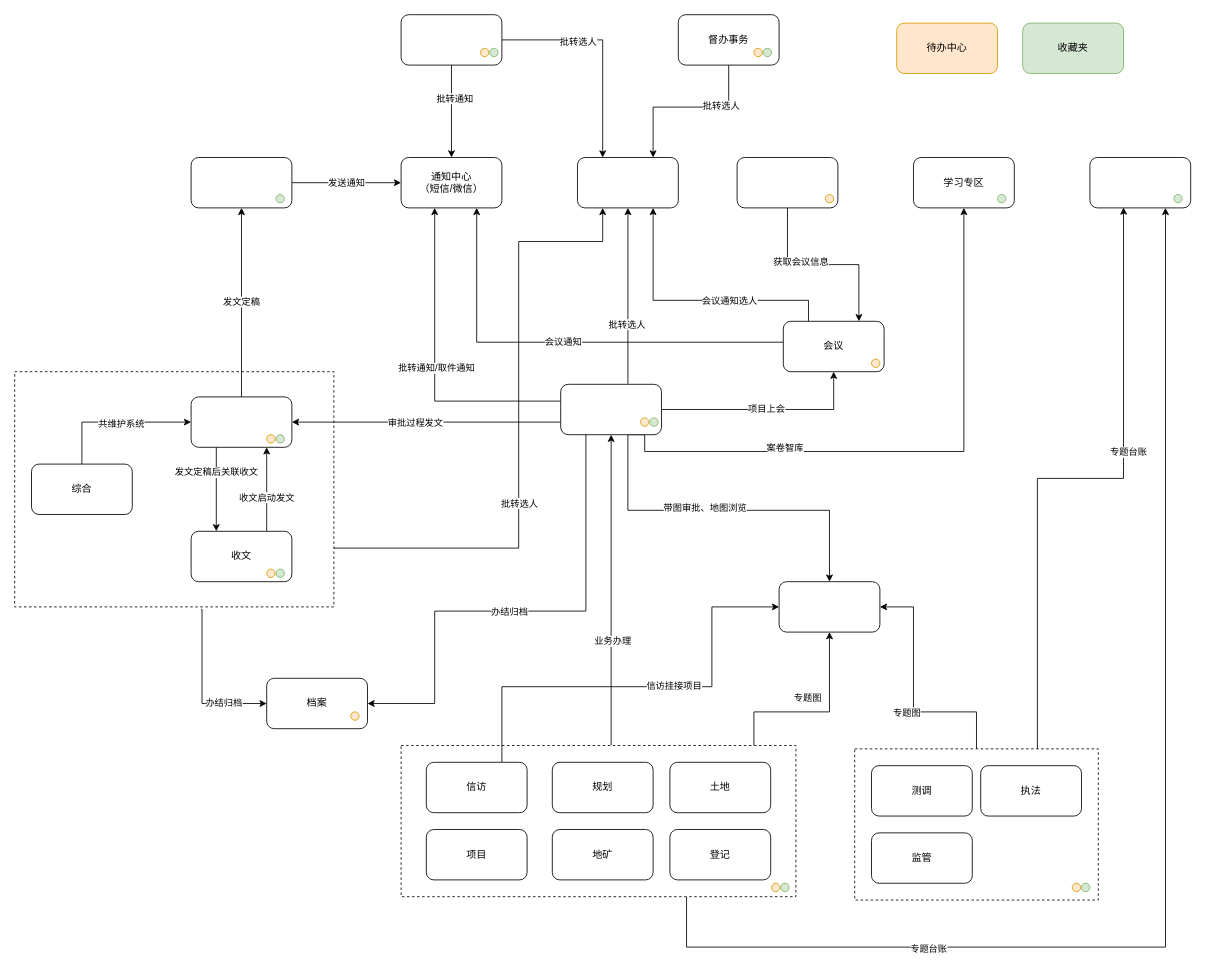
The diagram is 1205 pixels wide and 969 high, and some of its shapes have lost their labels. Here are the shapes that lost their labels. From the top down, the centre of each, then its label:
[451,39]: 一般事务
[241,182]: 内部通知
[627,182]: 通讯录
[787,182]: 领导周日程
[1140,182]: 台账
[241,421]: 发文
[611,409]: 审批
[829,606]: 地图
